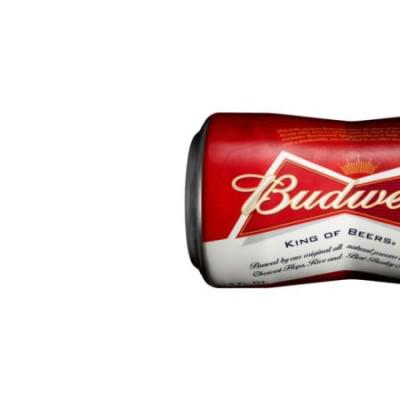beer: (181, 110, 400, 292)
